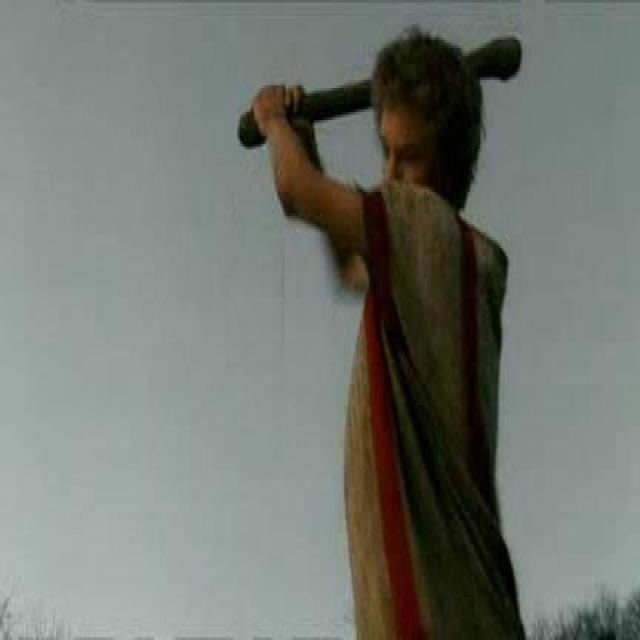fight: (233, 0, 604, 640)
